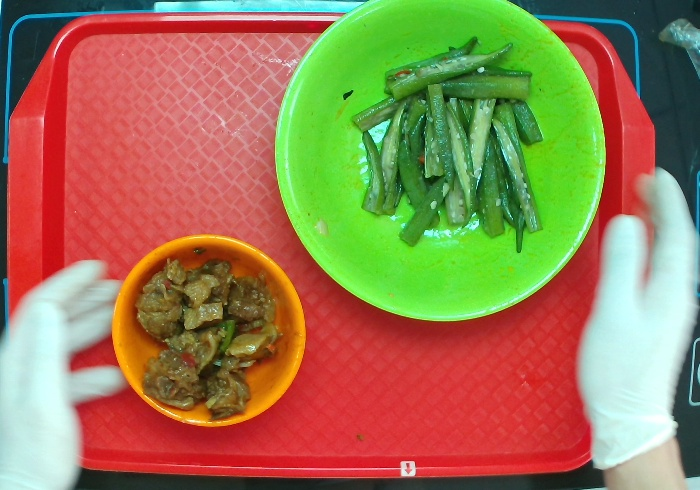YKMZ-Ju_Se_Yuan_Wan: (106, 233, 305, 430)
YKMZ-Lv_Se_Tang_Wan: (271, 1, 611, 322)
